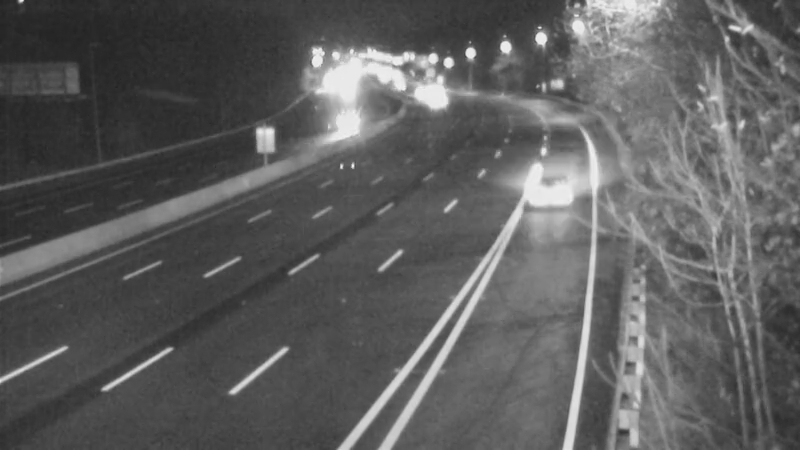vehicle: (505, 147, 585, 227), (410, 78, 460, 128), (333, 96, 383, 146)
